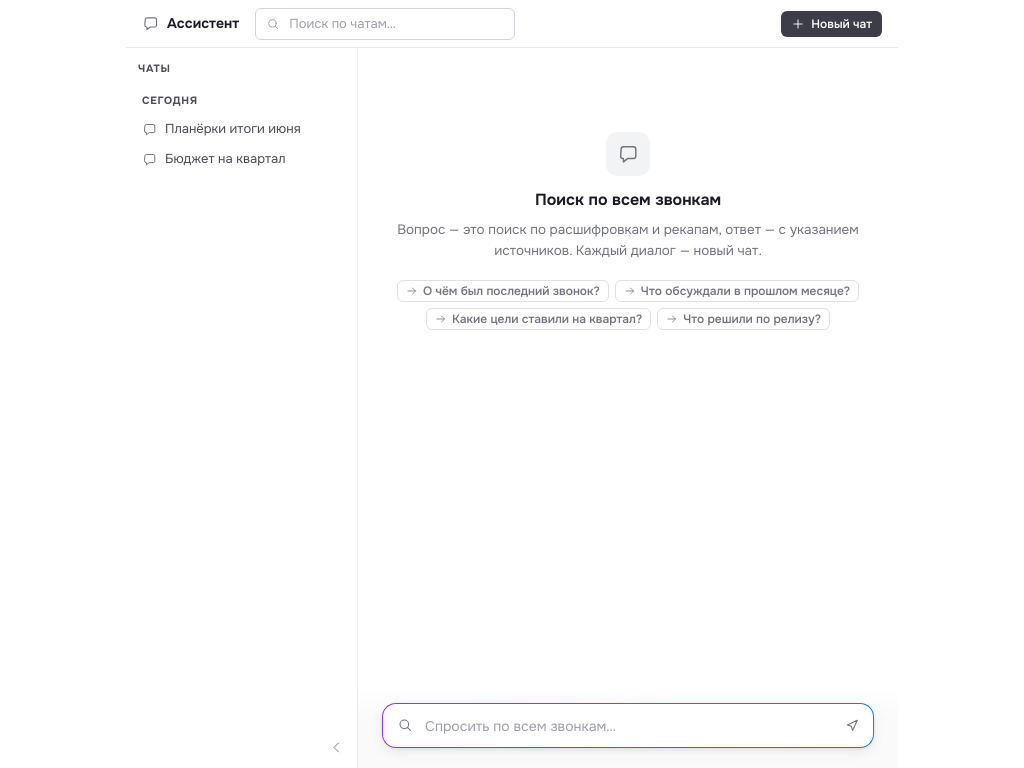
Scenario: панель чатов › активный чат → его название в .view-head, statsChip скрыт
Expected: the text "Планёрки итоги июня" is shown, x1=165 y1=119 x2=307 y2=139
Click the button "Планёрки итоги июня".
click(224, 129)  # box x1=142 y1=119 x2=307 y2=139
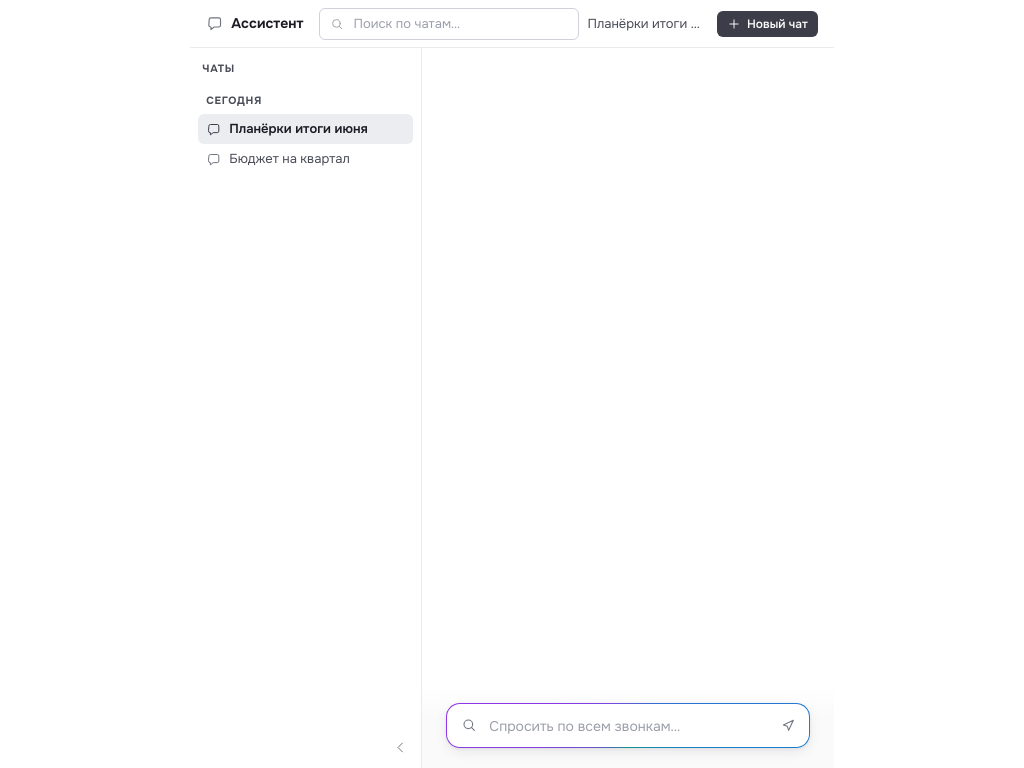
Now the text with class "as-head-chat" reads "Планёрки итоги июня", box x1=587 y1=15 x2=723 y2=32
